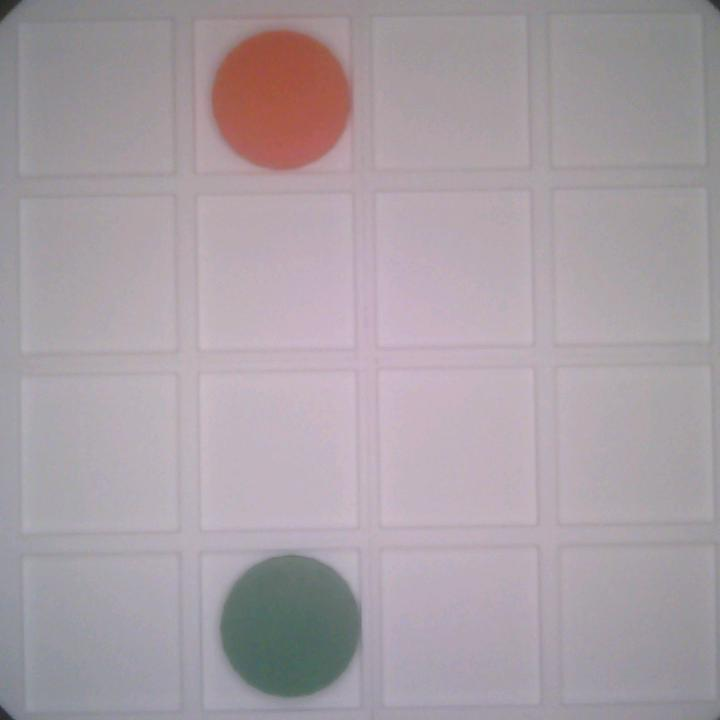Green circle: (217, 552, 362, 702)
Orange circle: (209, 25, 356, 168)
